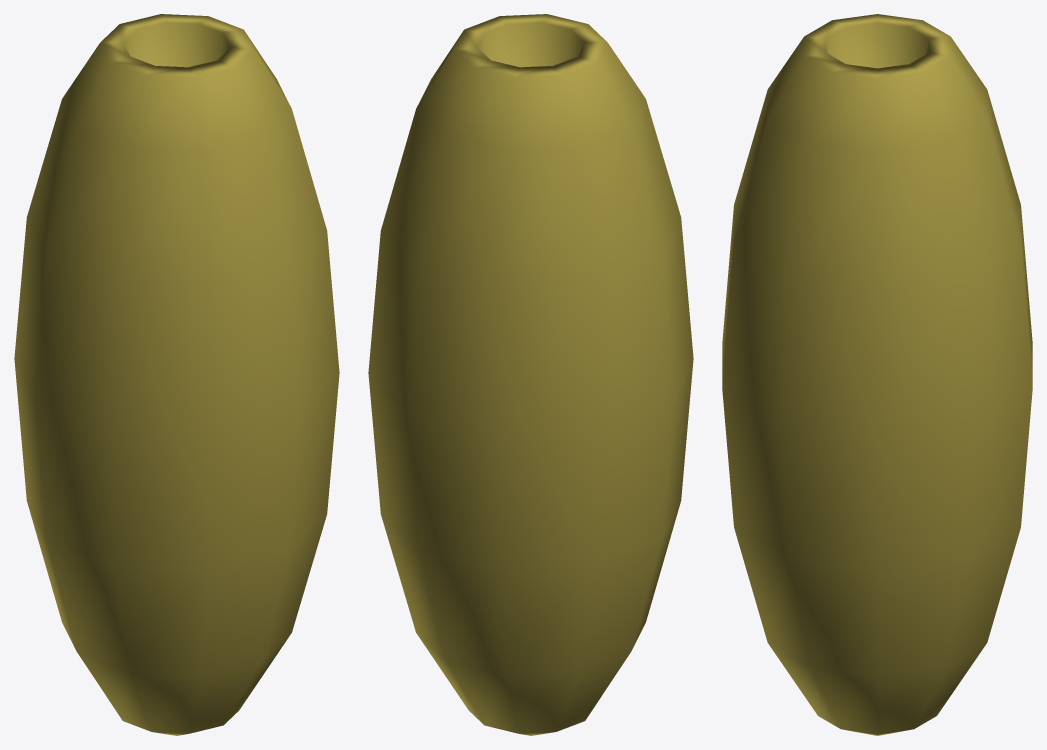
File: SM_Vase.fbx
3 renders of one model, left to right at view 1: azimuth 30°, elevation 25°; view 2: azimuth 150°, elevation 25°; view 3: azimuth 270°, elevation 25°, orthographic.
Visible parts, largest first — view 1: pSphere3; view 2: pSphere3; view 3: pSphere3.
Boxes of the visible parts, <box> form: pSphere3: <box>14,14,339,735</box>; pSphere3: <box>368,14,693,735</box>; pSphere3: <box>722,14,1032,735</box>.
Size of the model in its own units: 6.25 by 14.58 by 5.95.
